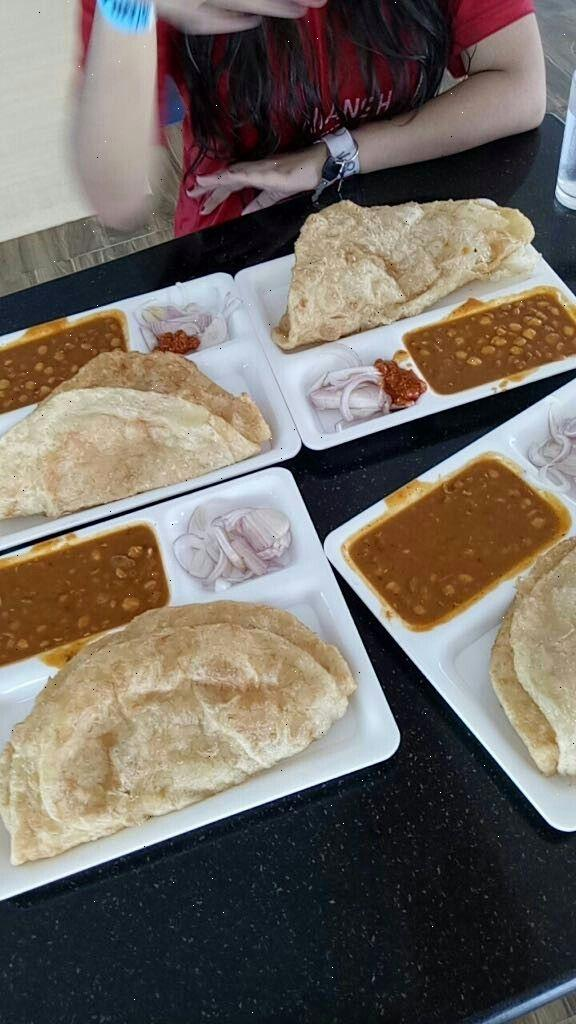chole: (350, 478, 560, 572), (0, 540, 180, 632), (430, 331, 576, 394), (0, 321, 123, 378)
salad: (278, 351, 430, 425), (165, 508, 303, 584), (135, 308, 228, 357)
